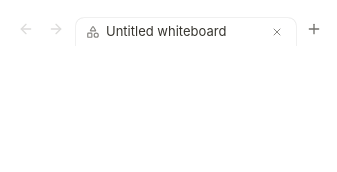
Test: TabBar › renames the page by double-clicking its tab (Enter saves, Esc cancels)
This screenshot has width=337, height=172.
Double-click the tab "Untitled whiteboard".
double_click(186, 32)  # box [76, 18, 296, 46]
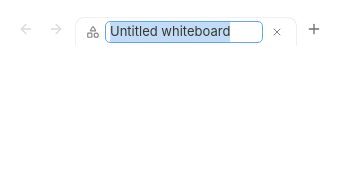
Replace the text in the field named "Rename page" with "Writing plan" at (184, 32), box [106, 22, 262, 42]
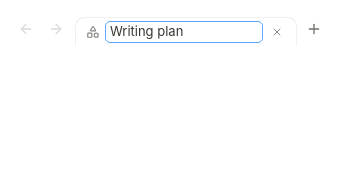
Press Enter in the field named "Rename page", box [106, 22, 262, 42]
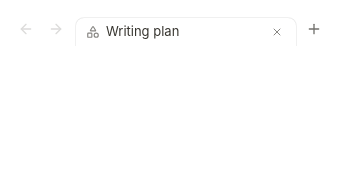
Now the text "Writing plan" is shown, box [106, 23, 179, 39]
Now the tab reads "Writing plan"
Double-click the tab "Writing plan".
double_click(186, 32)  # box [76, 18, 296, 46]
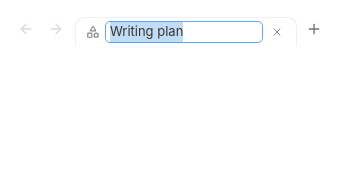
Replace the text in the field named "Rename page" with "Nope" at (184, 32), box [106, 22, 262, 42]
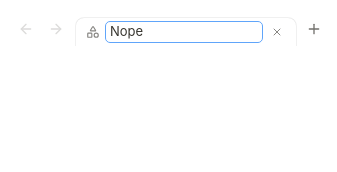
Press Escape in the field named "Rename page", box [106, 22, 262, 42]
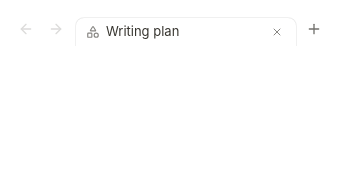
Now the text "Writing plan" is shown, box [106, 23, 179, 39]
